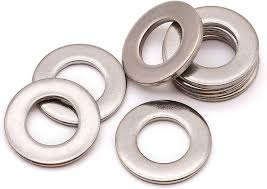No thread: (185, 15, 241, 75), (134, 114, 197, 165), (24, 98, 83, 149), (55, 57, 108, 109), (136, 18, 185, 70)
